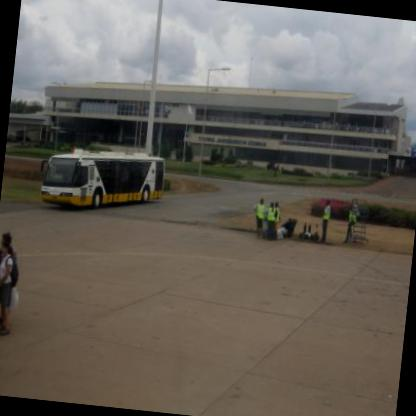bus: (32, 137, 166, 217)
